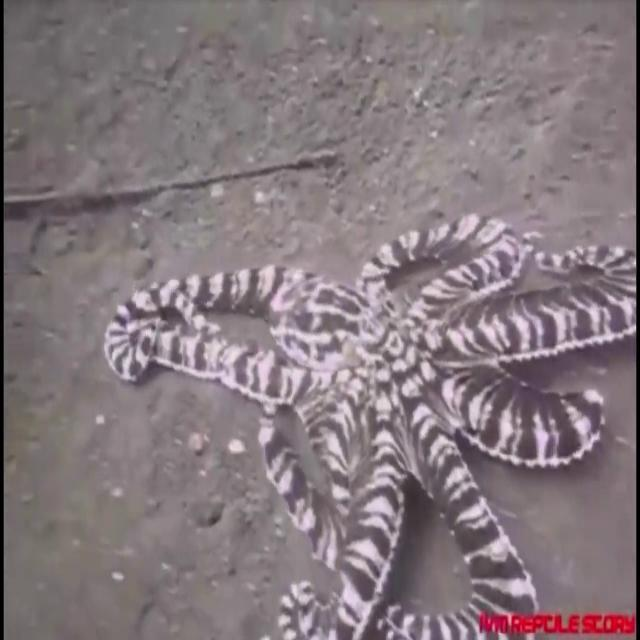octopus: (98, 185, 640, 639)
